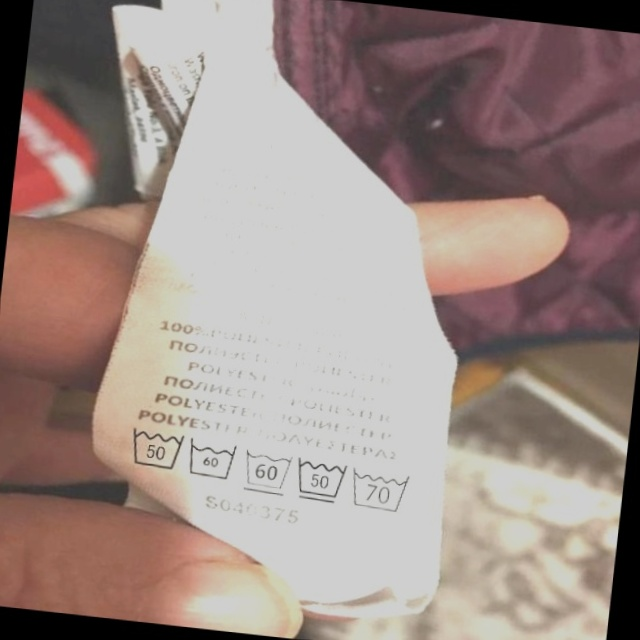50C: (122, 419, 190, 476), (290, 453, 352, 508)
60C: (239, 444, 297, 498), (183, 434, 242, 486)
70C: (348, 464, 417, 517)
